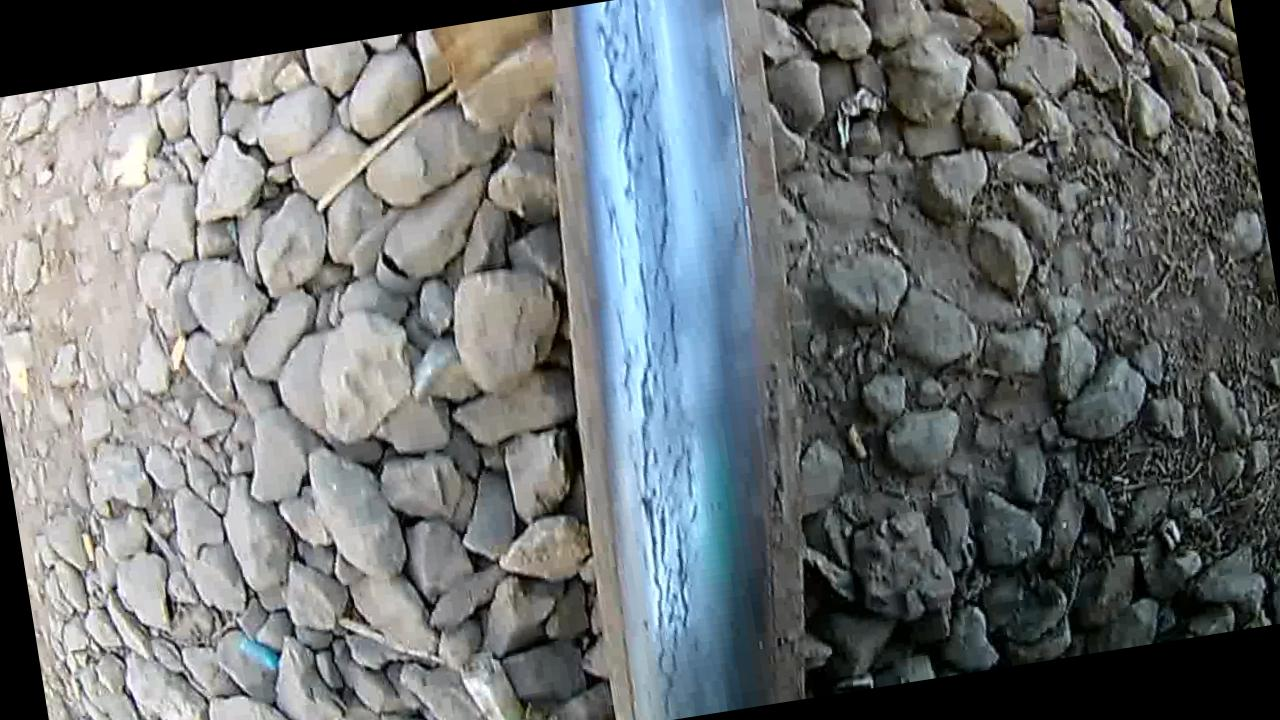normal_track: (538, 0, 777, 720)
